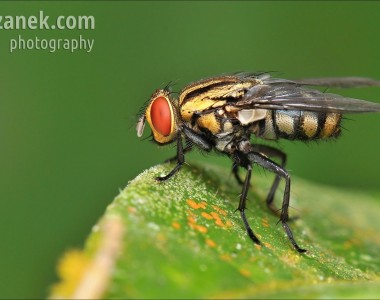house fly: (138, 67, 366, 254)
